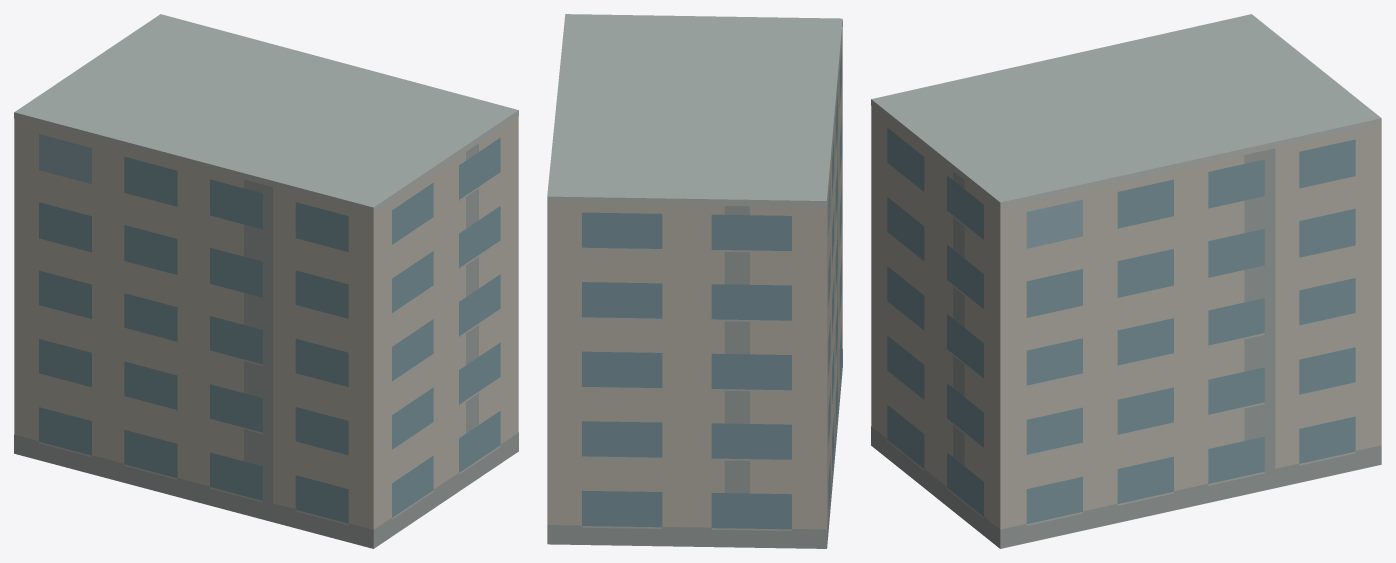
Rendered from survey-upis-32842061.glb.
The picture shows the model from 3 angles, left to right: view 1: azimuth 30°, elevation 25°; view 2: azimuth 150°, elevation 25°; view 3: azimuth 270°, elevation 25°; orthographic projection.
Visible parts, largest first — view 1: survey-upis-32842061.tmp; view 2: survey-upis-32842061.tmp; view 3: survey-upis-32842061.tmp.
Part boxes in pixels (x1,y1,x2,y2): survey-upis-32842061.tmp: [14, 14, 518, 548]; survey-upis-32842061.tmp: [547, 14, 842, 548]; survey-upis-32842061.tmp: [871, 14, 1381, 548].
Bounding box in the file's own units: 15.3 × 13.1 × 17.51.
